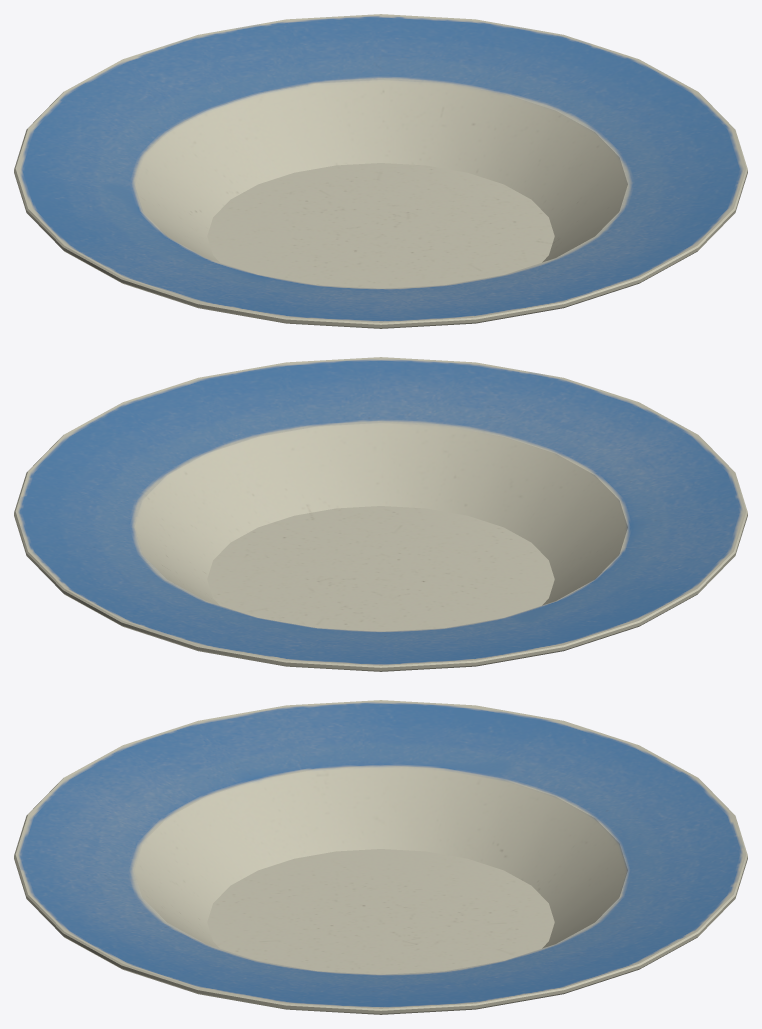
File: Dish.glb
3 views of the same model, one above another, from view 1: azimuth 30°, elevation 25°; view 2: azimuth 150°, elevation 25°; view 3: azimuth 270°, elevation 25° (orthographic).
Visible parts, largest first — view 1: plate; view 2: plate; view 3: plate.
Boxes of the visible parts, bbox=[...] form: plate: bbox=[14, 14, 747, 328]; plate: bbox=[14, 357, 747, 671]; plate: bbox=[14, 700, 747, 1014].
Size of the model in its own units: 2 by 0.2464 by 2.
1 material, 1 textured.
